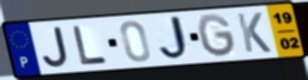0: (119, 19, 153, 64)
G: (195, 13, 238, 59)
J: (158, 14, 195, 63), (40, 25, 71, 69)
K: (235, 11, 274, 54)
L: (70, 24, 110, 67)
